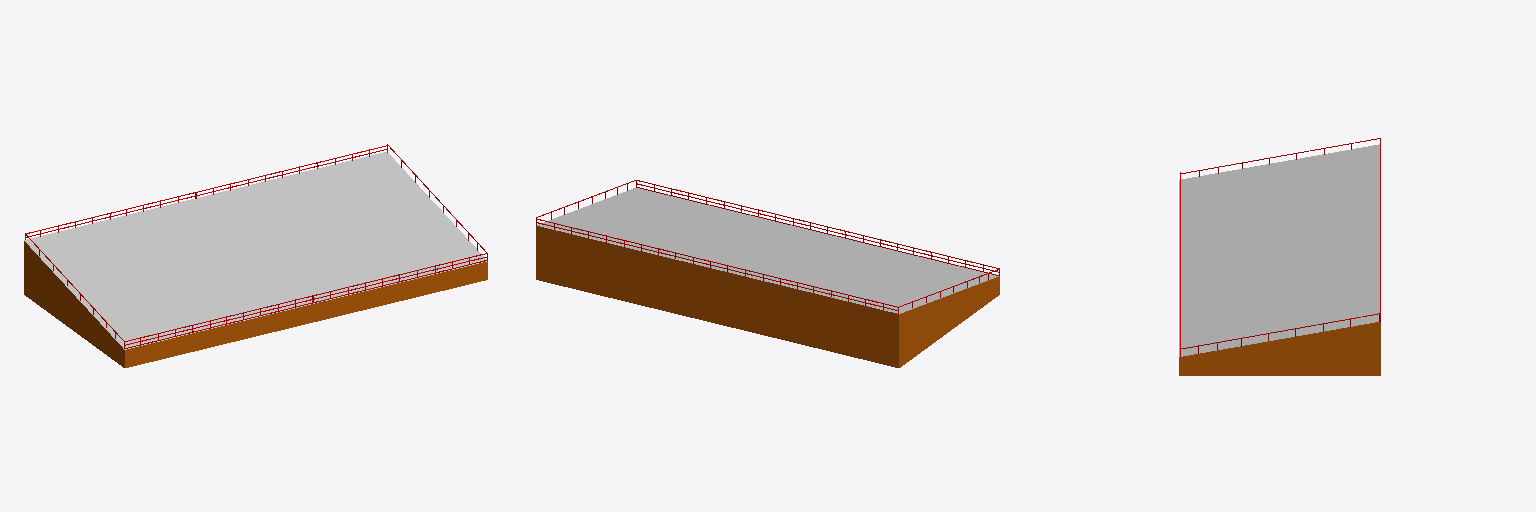
Rendered from green.obj.
3 views of the same model, side by side, from view 1: azimuth 30°, elevation 25°; view 2: azimuth 150°, elevation 25°; view 3: azimuth 270°, elevation 25° (orthographic).
Parts seen in each view (by area): view 1: Cube.002, Cube.004, Cylinder.004; view 2: Cube.004, Cube.002, Cylinder.004; view 3: Cube.002, Cube.004, Cylinder.004.
Part boxes in pixels (bbox=[...]): Cube.002: bbox=[24, 152, 486, 349]; Cube.004: bbox=[24, 241, 487, 367]; Cylinder.004: bbox=[25, 144, 487, 348]; Cube.004: bbox=[536, 226, 999, 367]; Cube.002: bbox=[537, 188, 998, 313]; Cylinder.004: bbox=[536, 180, 999, 313]; Cube.002: bbox=[1179, 144, 1379, 356]; Cube.004: bbox=[1179, 322, 1380, 375]; Cylinder.004: bbox=[1180, 138, 1380, 356].
Size of the model in its own units: 129 by 21.13 by 62.23.